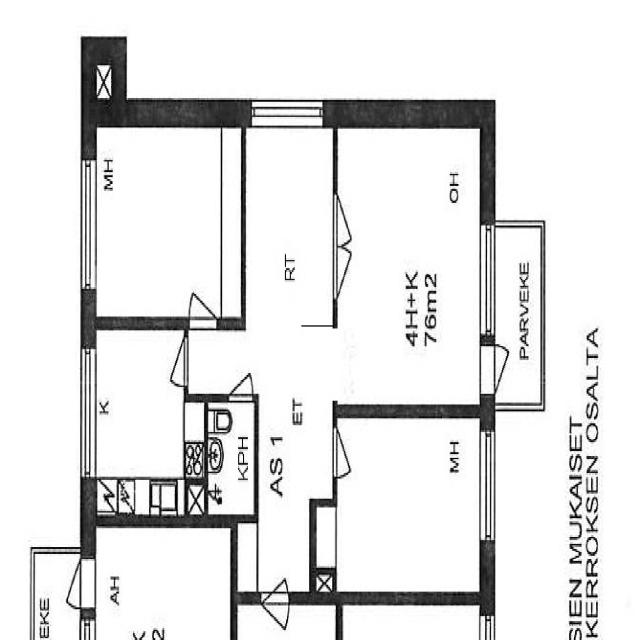door: (184, 286, 222, 338), (66, 554, 98, 615), (162, 328, 190, 392), (260, 576, 291, 631), (331, 421, 355, 483), (490, 340, 514, 397)
window: (75, 151, 101, 301), (248, 92, 327, 134), (475, 424, 499, 555), (476, 219, 500, 348), (77, 339, 98, 486)
zone: (237, 98, 332, 597), (336, 127, 484, 412), (90, 117, 242, 325), (333, 413, 487, 601), (89, 324, 204, 513), (207, 398, 256, 519)
